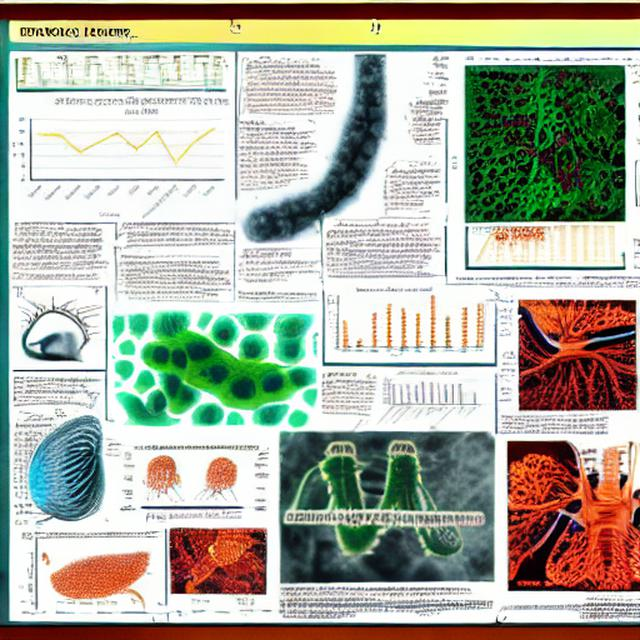Graph: (9, 96, 231, 219), (331, 286, 458, 361), (376, 369, 481, 430)
